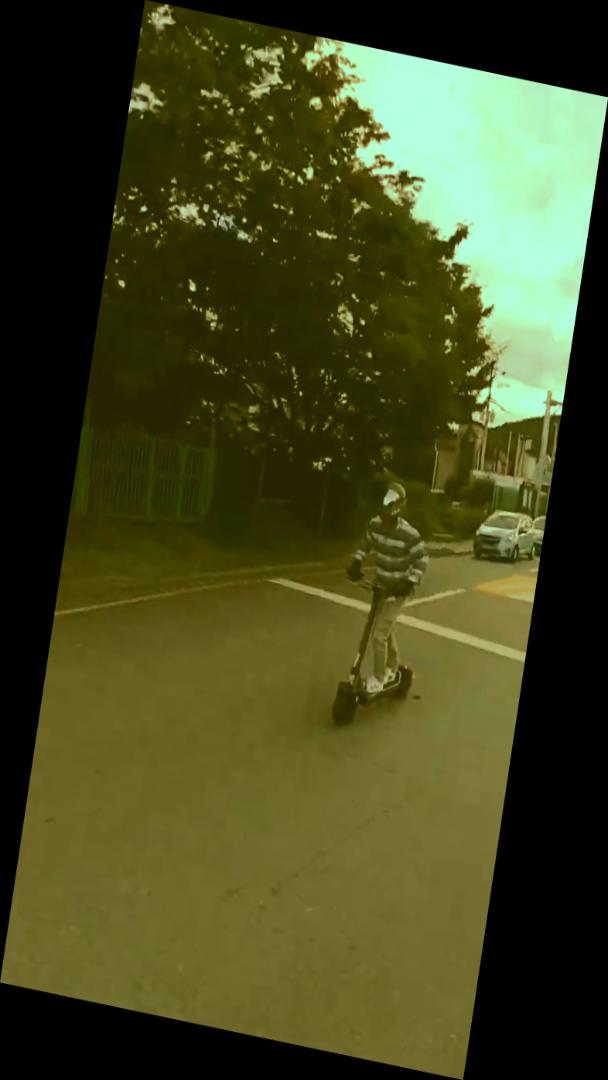helmet: (323, 471, 445, 745)
